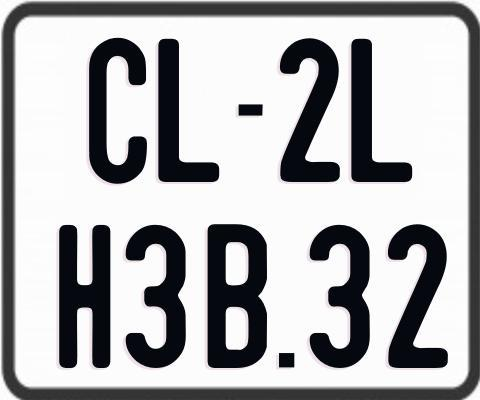2: (280, 38, 344, 186), (385, 224, 450, 368)
3: (310, 222, 374, 370), (124, 225, 184, 373)
B: (205, 223, 269, 373)
C: (86, 36, 149, 184)
H: (56, 224, 112, 370)
L: (155, 38, 220, 183), (349, 38, 410, 183)
